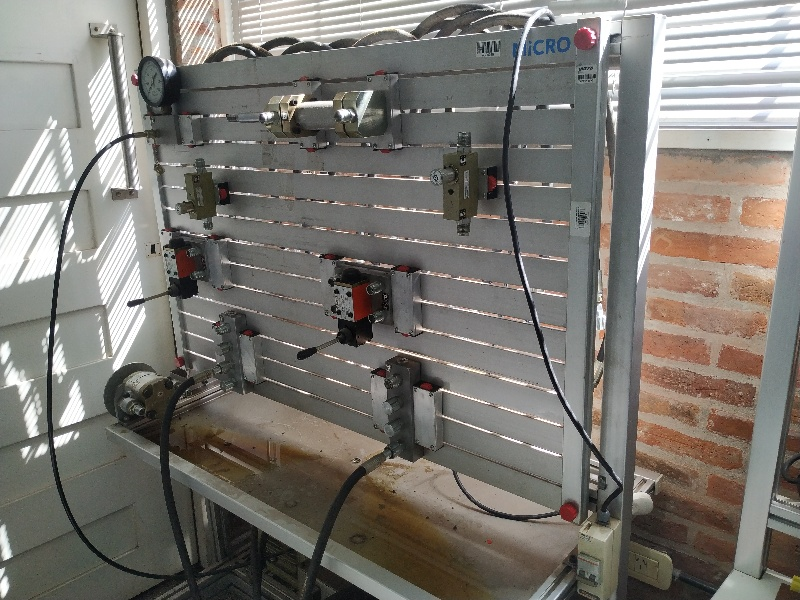Tablero 5: (141, 59, 587, 520)
